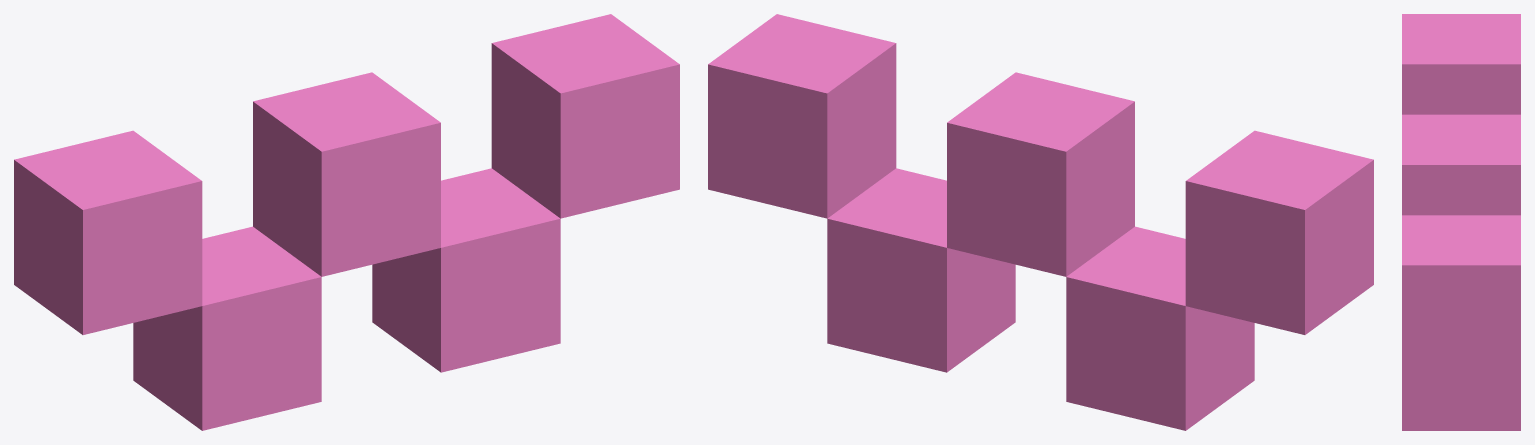
Rendered from 38_mood_rawr.glb.
3 views of the same model, side by side, from view 1: azimuth 30°, elevation 25°; view 2: azimuth 150°, elevation 25°; view 3: azimuth 270°, elevation 25° (orthographic). The views are drawn at different scales.
Size of the model in its own units: 5 by 2 by 0.999.
